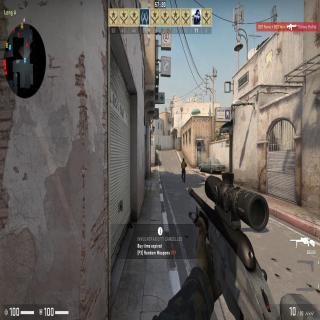T-Body: (180, 156, 187, 184)
T-Head: (182, 157, 185, 162)
